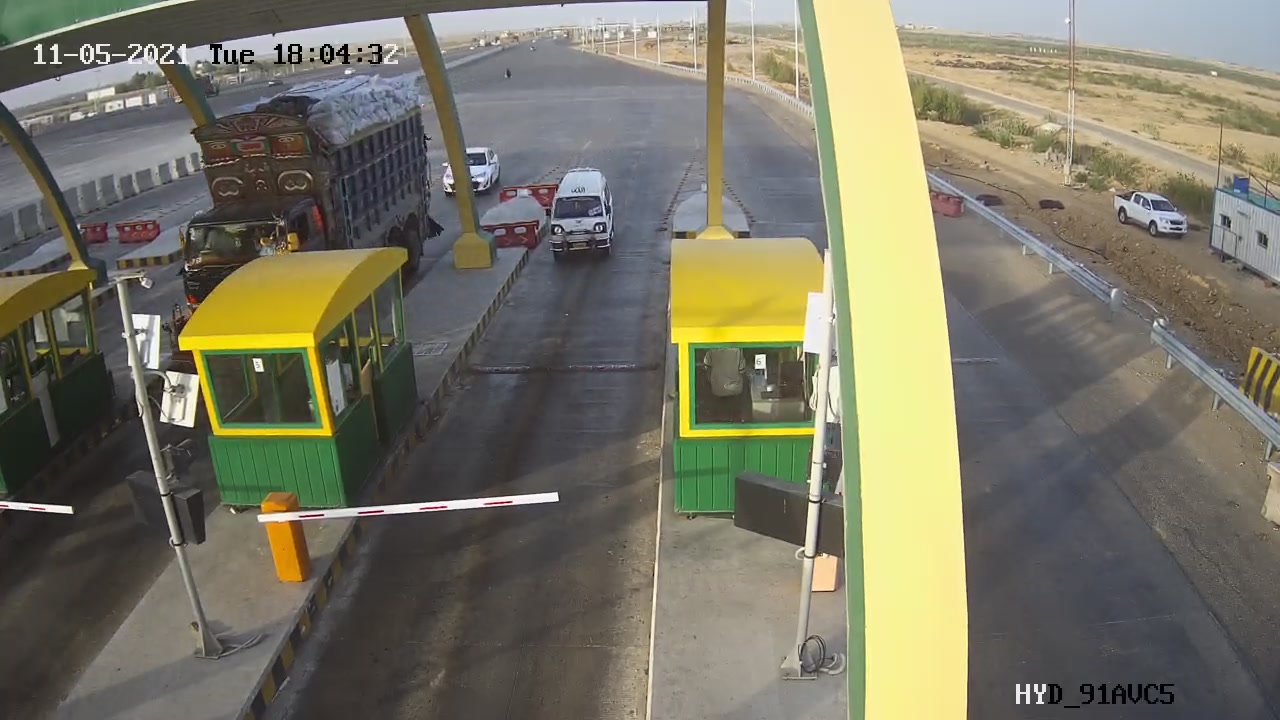F1: (530, 148, 638, 275)
